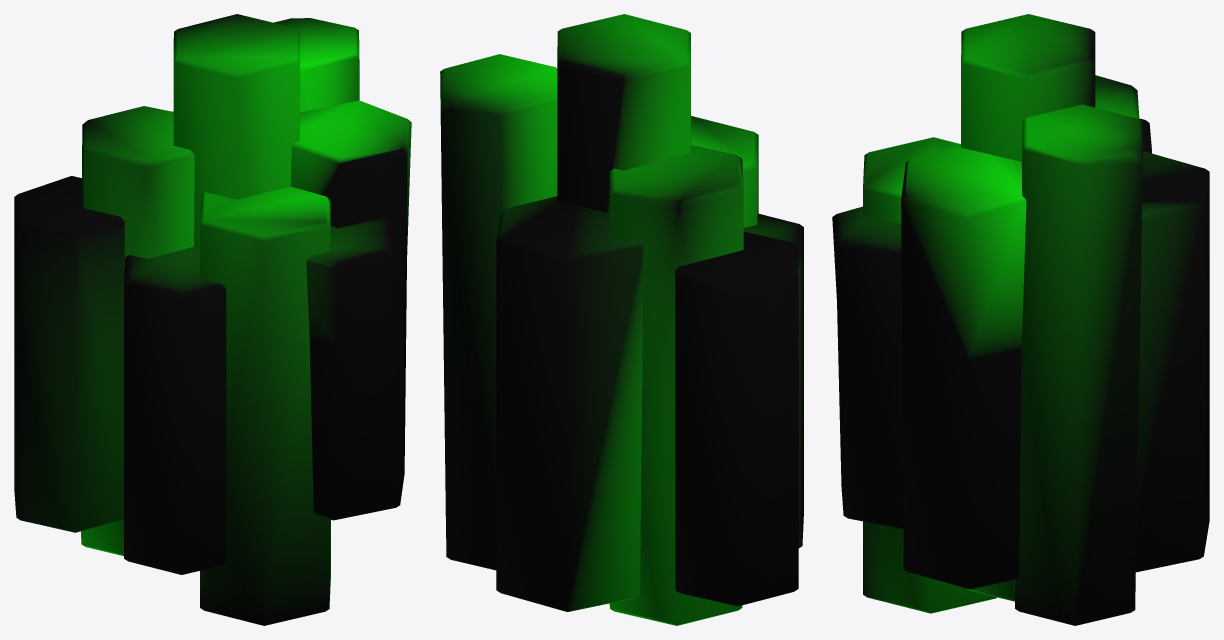
Rendered from SM_RockHexic_Rocks06.fbx.
The picture shows the model from 3 angles, left to right: view 1: azimuth 30°, elevation 25°; view 2: azimuth 150°, elevation 25°; view 3: azimuth 270°, elevation 25°; orthographic projection. The views are drawn at different scales.
Visible parts, largest first — view 1: SM_RockHexic_Rocks06; view 2: SM_RockHexic_Rocks06; view 3: SM_RockHexic_Rocks06.
Part boxes in pixels (x1,y1,x2,y2): SM_RockHexic_Rocks06: (14, 14, 411, 625); SM_RockHexic_Rocks06: (440, 14, 803, 625); SM_RockHexic_Rocks06: (832, 14, 1209, 625).
Bounding box in the file's own units: 1145 × 1036 × 1659.
